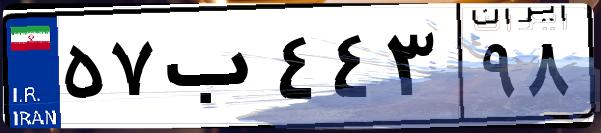3: (385, 28, 445, 110)
4: (270, 28, 330, 110), (330, 28, 385, 110)
5: (57, 26, 110, 100)
7: (110, 28, 158, 98)
8: (525, 38, 570, 115)
9: (475, 38, 525, 113)
ب: (158, 20, 270, 120)
